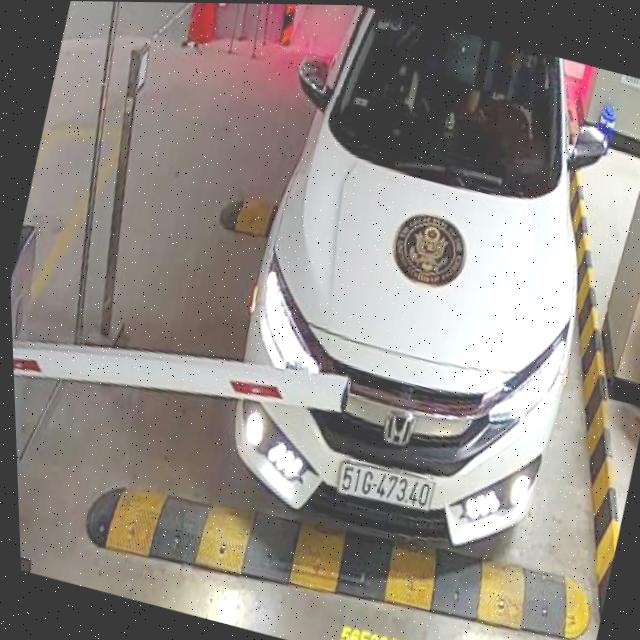car: (185, 3, 640, 580)
plate: (329, 452, 440, 519)
